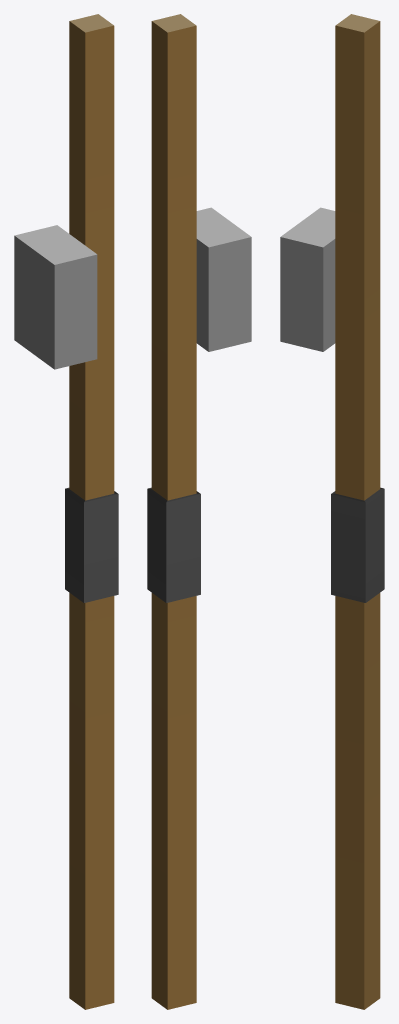
File: SM_Env_Power_Pole_01.fbx
3 views of the same model, side by side, from view 1: azimuth 30°, elevation 25°; view 2: azimuth 210°, elevation 25°; view 3: azimuth 330°, elevation 25° (orthographic).
Visible parts, largest first — view 1: SM_Env_Power_Pole_01; view 2: SM_Env_Power_Pole_01; view 3: SM_Env_Power_Pole_01.
Boxes of the visible parts, x1,y1,x2,y2 form: SM_Env_Power_Pole_01: [14, 14, 118, 1009]; SM_Env_Power_Pole_01: [147, 14, 251, 1009]; SM_Env_Power_Pole_01: [280, 14, 384, 1009].
Bounding box in the file's own units: 0.7473 × 9.34 × 0.6965.
